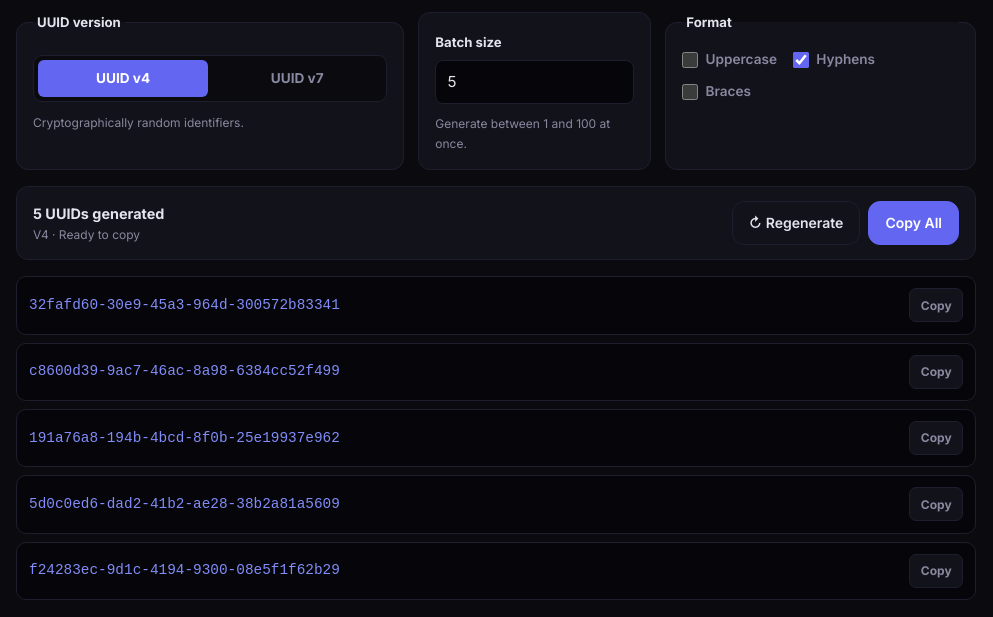
Test case: UuidTool generation › generates the selected batch size when regenerated
The image size is (993, 617).
Replace the text in the number field labelled "Batch size" with "3" at (535,82), box x1=435 y1=60 x2=634 y2=104
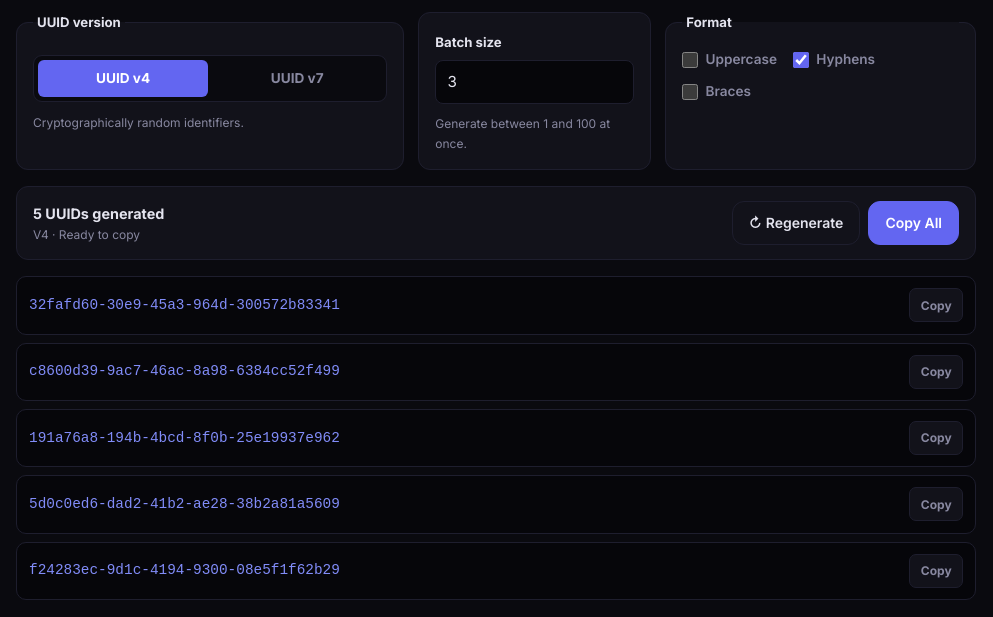
Click the button "↻ Regenerate" at (796,223), box x1=732 y1=201 x2=860 y2=245
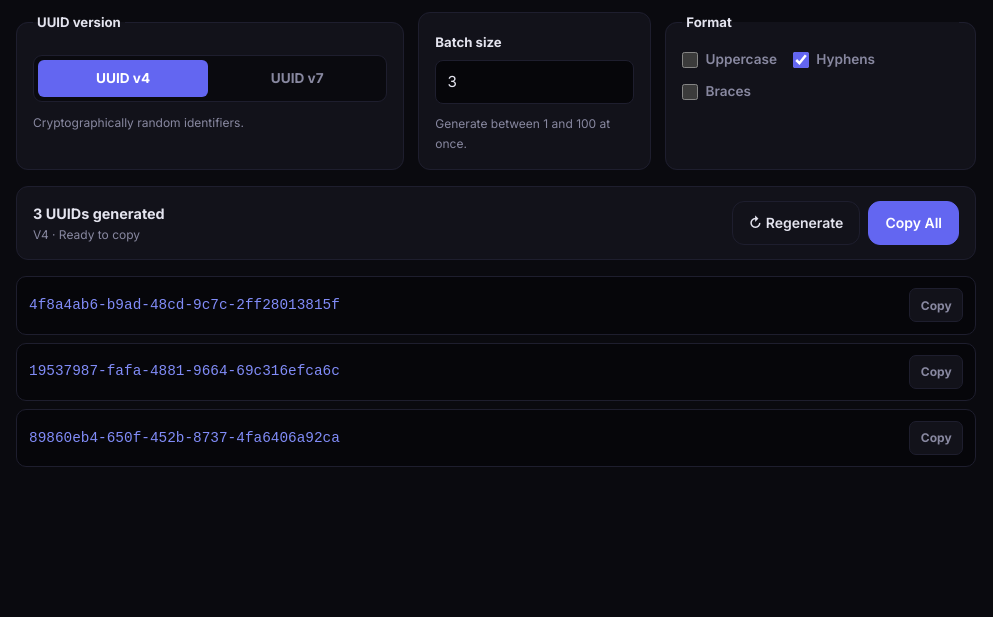
Expected: the number of list items is 3, x1=16 y1=276 x2=976 y2=334; x1=16 y1=342 x2=976 y2=401; x1=16 y1=409 x2=976 y2=467
Expected: the text "3 UUIDs generated" is shown, x1=33 y1=202 x2=165 y2=225
